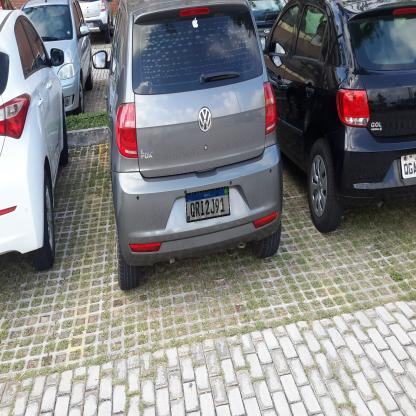PlacaM: (185, 186, 230, 223)
